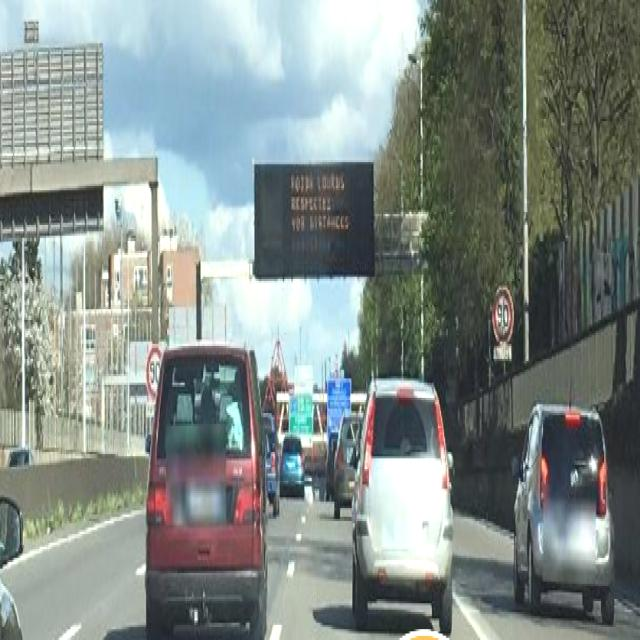speed_90: (493, 287, 514, 342)
